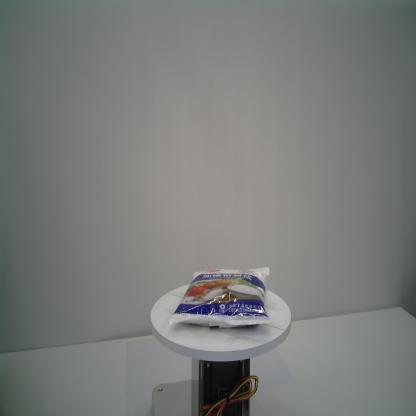Seasoner: (168, 267, 270, 330)
